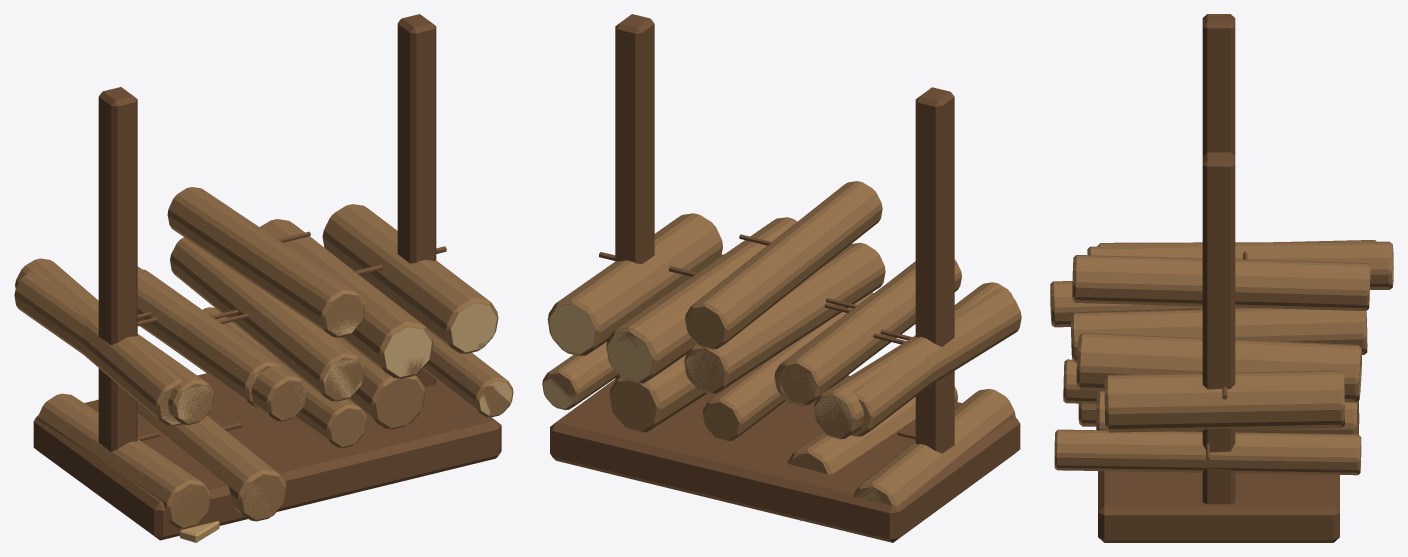
File: runtime.glb
3 renders of one model, left to right at view 1: azimuth 30°, elevation 25°; view 2: azimuth 150°, elevation 25°; view 3: azimuth 270°, elevation 25°, orthographic. The views are drawn at different scales.
Parts seen in each view (by area): view 1: falkenwacht-woodpile-v02_nocol; view 2: falkenwacht-woodpile-v02_nocol; view 3: falkenwacht-woodpile-v02_nocol.
Boxes of the visible parts, left/top/right/bottom form: falkenwacht-woodpile-v02_nocol: left=14, top=14, right=513, bottom=542; falkenwacht-woodpile-v02_nocol: left=542, top=14, right=1021, bottom=542; falkenwacht-woodpile-v02_nocol: left=1050, top=14, right=1393, bottom=542.
Size of the model in its own units: 2.2 by 2.3 by 1.9.
